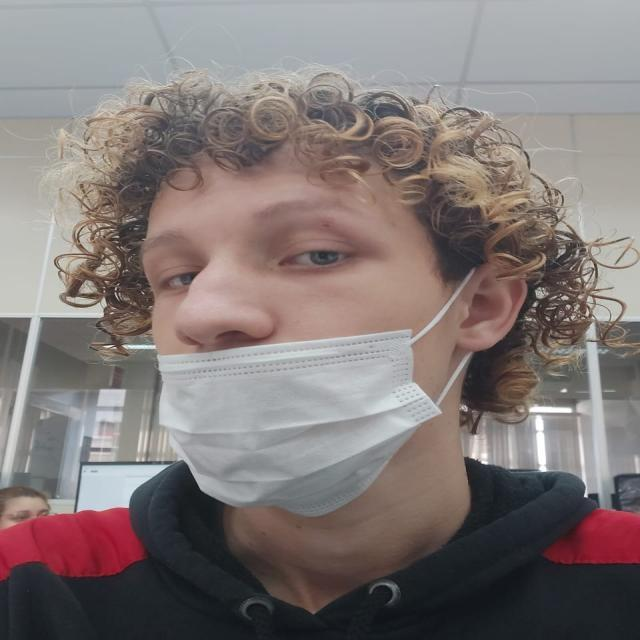hairnet: (146, 275, 460, 500)
